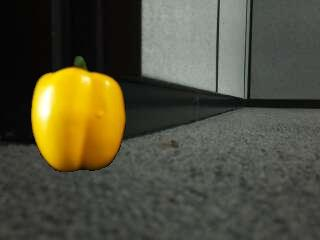Capsicum: (30, 58, 126, 176)
